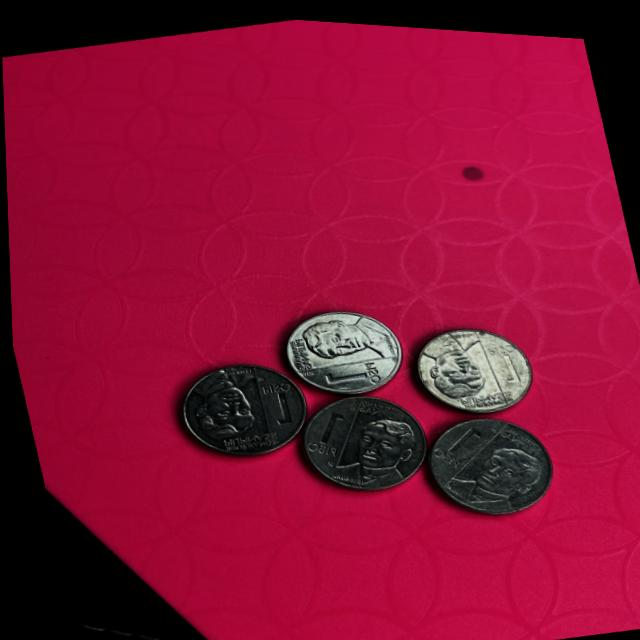1_New_Front: (294, 400, 350, 460), (427, 413, 488, 467), (316, 349, 382, 398), (482, 331, 524, 385), (262, 370, 300, 426)
